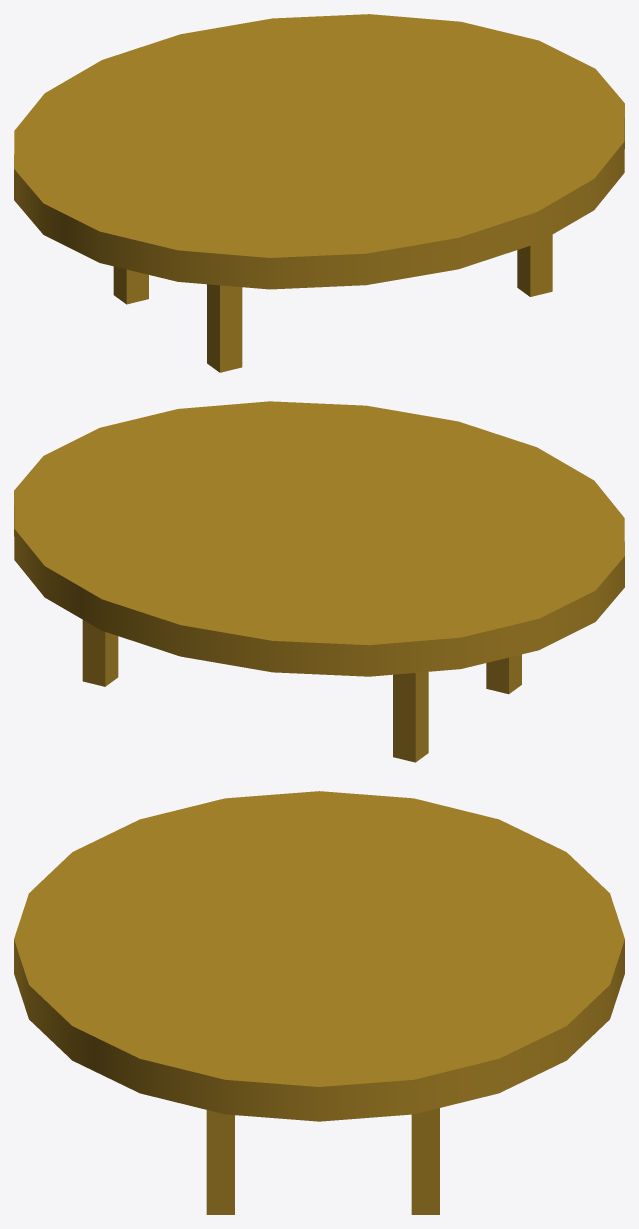
Rendered from Coffee_table.fbx.
3 views of the same model, one above another, from view 1: azimuth 30°, elevation 25°; view 2: azimuth 150°, elevation 25°; view 3: azimuth 270°, elevation 25° (orthographic). The views are drawn at different scales.
Visible parts, largest first — view 1: pCylinder17, pCube96, pCube97, pCube95; view 2: pCylinder17, pCube95, pCube94, pCube96; view 3: pCylinder17, pCube94, pCube97.
Part boxes in pixels (<box>): pCylinder17: <box>14,14,624,289</box>; pCube96: <box>207,284,242,372</box>; pCube97: <box>517,234,552,296</box>; pCube95: <box>113,266,148,304</box>; pCylinder17: <box>14,401,624,676</box>; pCube95: <box>393,672,428,762</box>; pCube94: <box>82,620,118,686</box>; pCube96: <box>486,654,521,694</box>; pCylinder17: <box>14,791,624,1121</box>; pCube94: <box>411,1108,439,1214</box>; pCube97: <box>206,1110,234,1214</box>.
Bounding box in the file's own units: 9.67 × 2.72 × 8.44.
